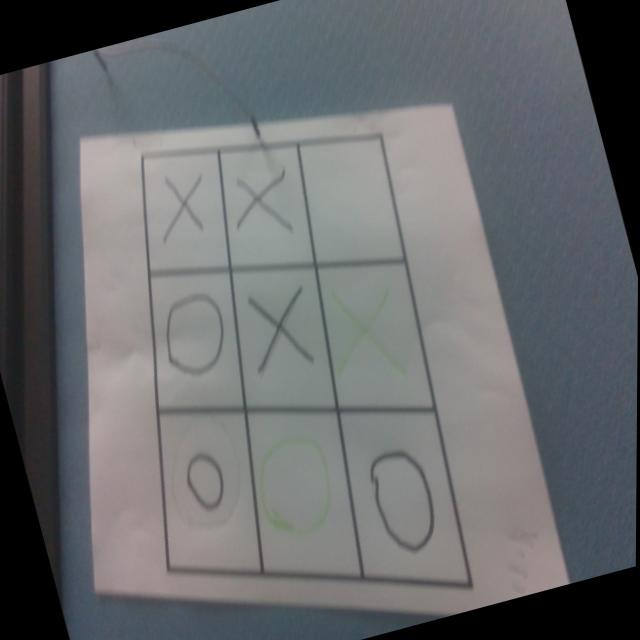null: (286, 124, 410, 280)
o: (233, 425, 345, 551), (361, 440, 446, 560), (153, 285, 235, 380), (179, 446, 232, 515)
table: (66, 93, 508, 640)
x: (304, 251, 414, 410), (243, 286, 319, 378), (224, 157, 300, 237), (150, 171, 214, 245)
